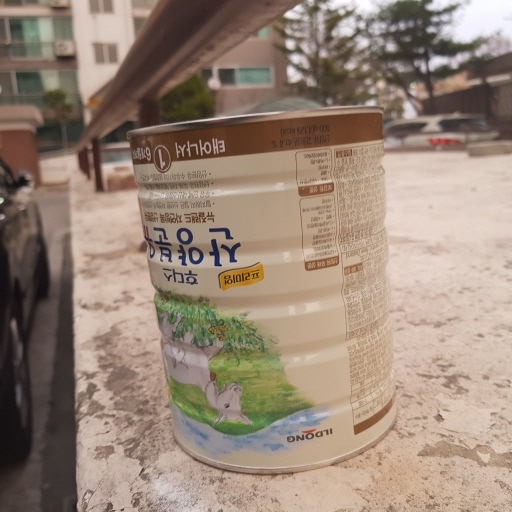Metal_1: (129, 104, 403, 477)
